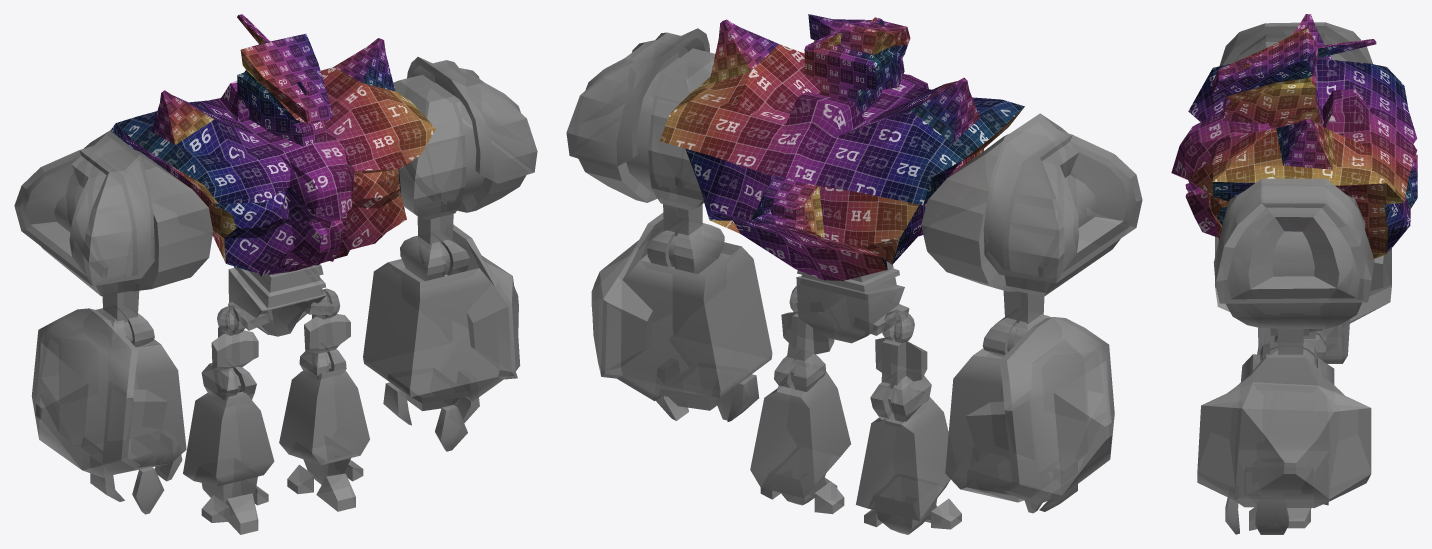
Rendered from RobotUVTorso.fbx.
3 renders of one model, left to right at view 1: azimuth 30°, elevation 25°; view 2: azimuth 150°, elevation 25°; view 3: azimuth 270°, elevation 25°, orthographic. The views are drawn at different scales.
Parts seen in each view (by area): view 1: Torso, Legs, polySurface1, polySurface3, polySurface10, polySurface8, face, polySurface9, polySurface2, polySurface11, polySurface4, polySurface12 (+4 smaller); view 2: Torso, Legs, polySurface1, polySurface3, polySurface10, polySurface8, face, polySurface9, polySurface2, polySurface12, pSphere2, polySurface13 (+1 smaller); view 3: Torso, polySurface10, polySurface8, face, polySurface1, polySurface3, Legs, polySurface13, polySurface9, polySurface11.
Part boxes in pixels (x1=…): Torso: x1=110, y1=38, x2=435, y2=276; Legs: x1=183, y1=264, x2=369, y2=534; polySurface1: x1=14, y1=130, x2=213, y2=323; polySurface3: x1=31, y1=308, x2=186, y2=477; polySurface10: x1=363, y1=224, x2=520, y2=411; polySurface8: x1=393, y1=57, x2=537, y2=249; face: x1=237, y1=14, x2=332, y2=146; polySurface9: x1=400, y1=232, x2=469, y2=281; polySurface2: x1=85, y1=304, x2=154, y2=346; polySurface11: x1=435, y1=404, x2=467, y2=451; polySurface4: x1=132, y1=466, x2=164, y2=514; polySurface12: x1=383, y1=382, x2=411, y2=425; Torso: x1=659, y1=19, x2=1024, y2=280; Legs: x1=750, y1=261, x2=961, y2=534; polySurface1: x1=921, y1=113, x2=1142, y2=328; polySurface3: x1=945, y1=317, x2=1114, y2=504; polySurface10: x1=591, y1=213, x2=772, y2=410; polySurface8: x1=566, y1=28, x2=715, y2=240; face: x1=804, y1=14, x2=910, y2=114; polySurface9: x1=647, y1=220, x2=724, y2=273; polySurface2: x1=982, y1=309, x2=1061, y2=356; polySurface12: x1=727, y1=374, x2=759, y2=421; pSphere2: x1=882, y1=309, x2=914, y2=343; polySurface13: x1=655, y1=359, x2=688, y2=420; Torso: x1=1171, y1=14, x2=1417, y2=258; polySurface10: x1=1197, y1=354, x2=1371, y2=508; polySurface8: x1=1213, y1=178, x2=1374, y2=354; face: x1=1212, y1=27, x2=1376, y2=128; polySurface1: x1=1219, y1=22, x2=1372, y2=66; polySurface3: x1=1215, y1=236, x2=1391, y2=363; Legs: x1=1249, y1=328, x2=1328, y2=530; polySurface13: x1=1255, y1=495, x2=1288, y2=534; polySurface9: x1=1260, y1=342, x2=1316, y2=367; polySurface11: x1=1225, y1=497, x2=1239, y2=534.
Size of the model in its own units: 5.14 by 4.81 by 2.31.
3 materials, 1 textured.
